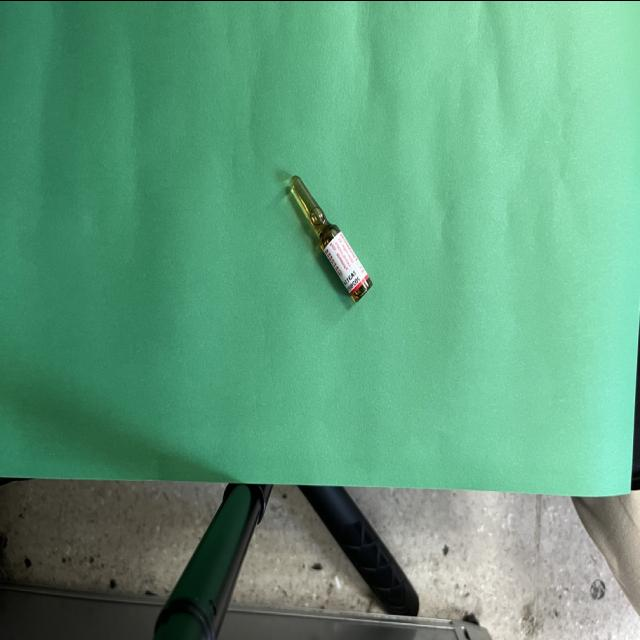Ampoules: (291, 174, 372, 301)
